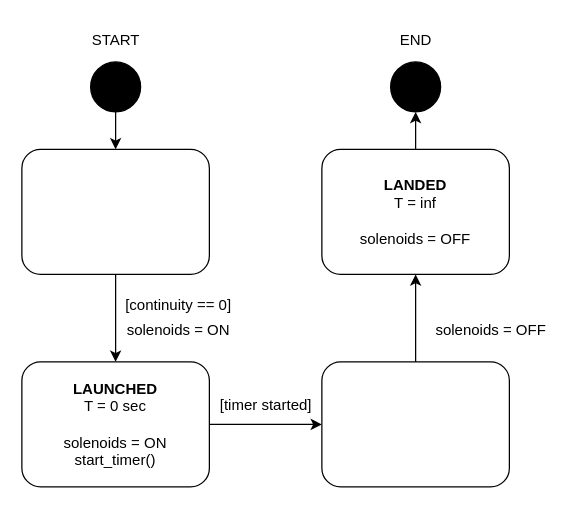
Image size: 581x509. Some labels were removed from this diagram. Each missing label, with the centre of its shape:
"FLIGHT T = 2 min solenoids = ON" goes at pixel 415 424.
"GROUNDED T = inf solenoids = OFF" goes at pixel 115 211.
